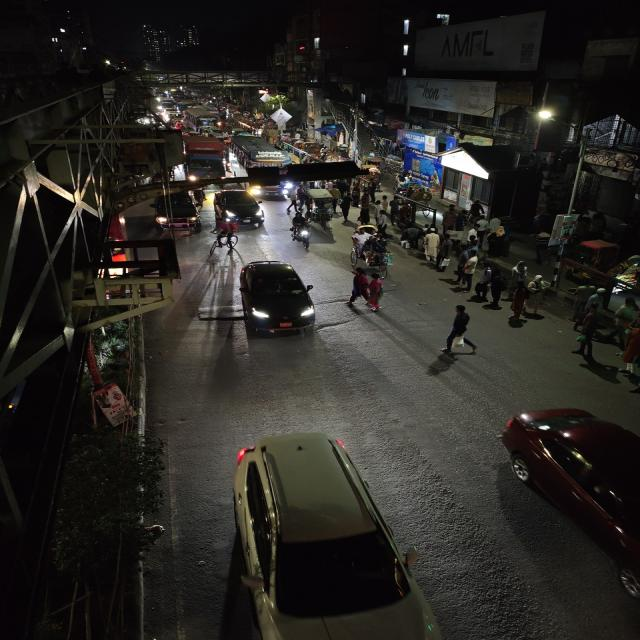bicycle: (211, 216, 240, 252)
bus: (230, 136, 290, 170)
car: (216, 428, 437, 639), (494, 396, 640, 622), (232, 256, 320, 340), (150, 188, 205, 232), (214, 189, 268, 229)
motorcycle: (286, 213, 314, 250)
pedestrian: (568, 306, 618, 359), (435, 304, 481, 360), (615, 321, 640, 400), (342, 266, 383, 313), (611, 295, 640, 347), (358, 237, 397, 273), (508, 282, 540, 324), (462, 257, 489, 292), (434, 233, 455, 273), (420, 228, 440, 266), (484, 273, 507, 306), (383, 194, 404, 226), (442, 202, 461, 234), (337, 192, 357, 222), (527, 274, 551, 298), (400, 225, 421, 252), (377, 193, 395, 223), (473, 276, 492, 304), (357, 198, 375, 226), (512, 259, 531, 283)
rickshaw: (306, 191, 335, 230)
truck: (180, 137, 229, 183)
